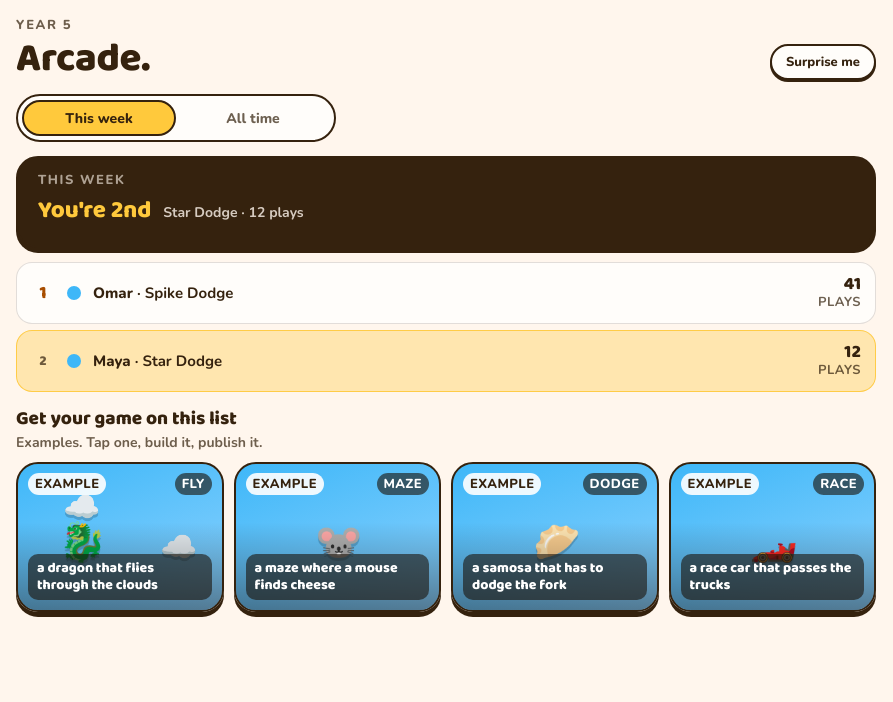
Test: a child in a class sees the room ranked, their own row lit, and their rank
The width and height of the screenshot is (893, 702).
Expected: the text "Year 5" is shown, [16,16,72,34]
Expected: the text "You're 2nd" is shown, [38,191,151,230]
Click the button "All time" at (253, 118), box [176,100,330,136]
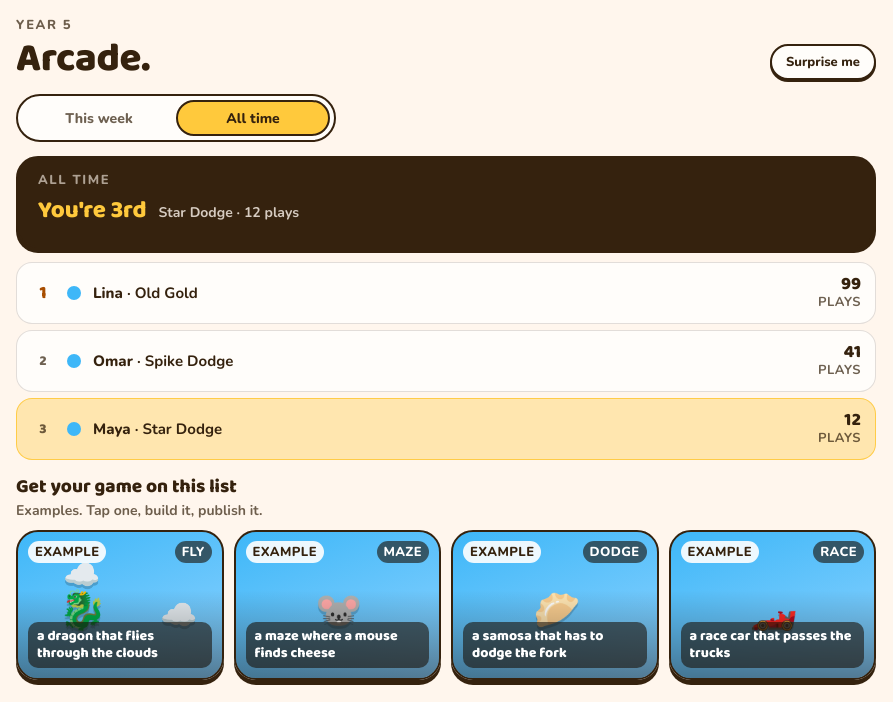
Now the text "You're 3rd" is shown, box [38,191,147,230]
Now the element with class "ar__who" reads "Lina · Old Gold", box [93,283,198,303]
